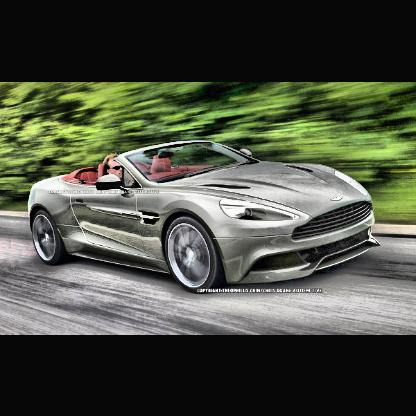Aston Martin Virage Convertible 2012: (26, 138, 384, 297)
